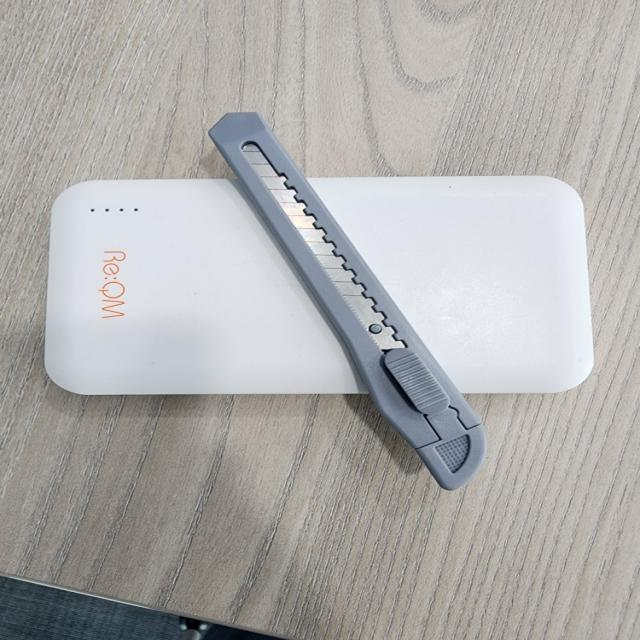cutter: (206, 107, 491, 494)
portable_charger: (45, 176, 595, 396)
